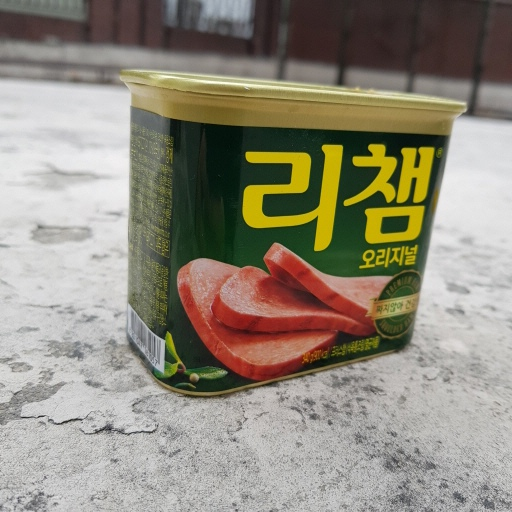Metal_2: (114, 67, 470, 400)
